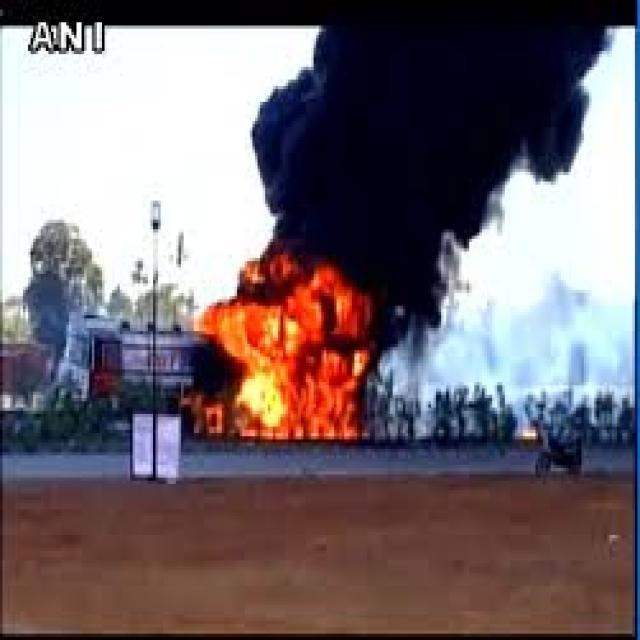Fire: (202, 254, 374, 441)
Smoke: (326, 0, 586, 172), (254, 68, 344, 254), (345, 169, 503, 264), (374, 258, 454, 364), (590, 0, 636, 63)
